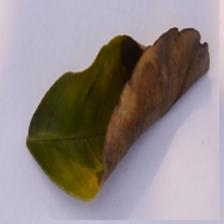black spot: (94, 4, 220, 185)
